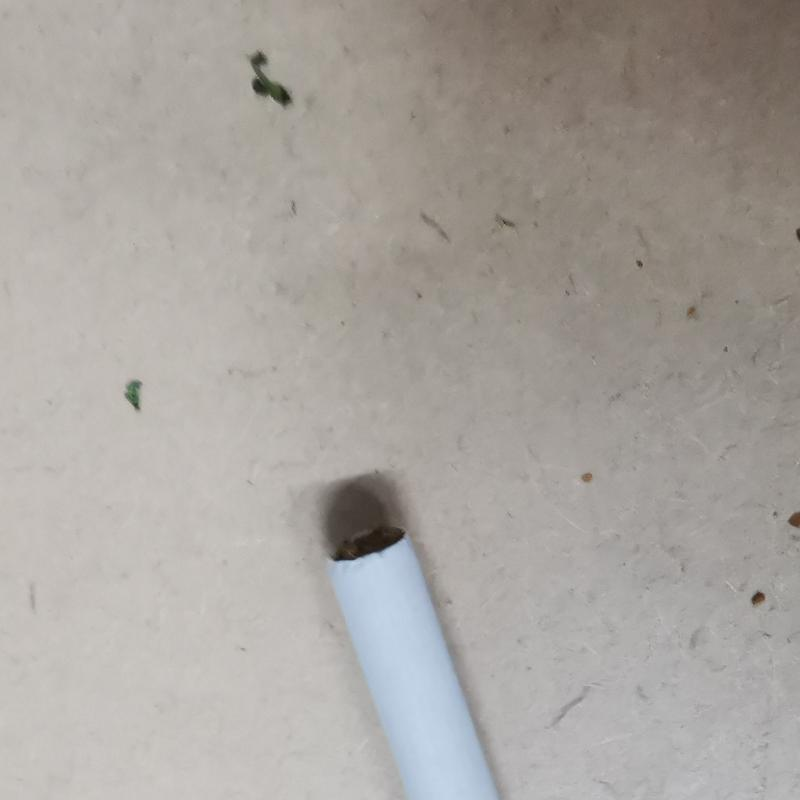cigarette: (320, 516, 508, 799)
